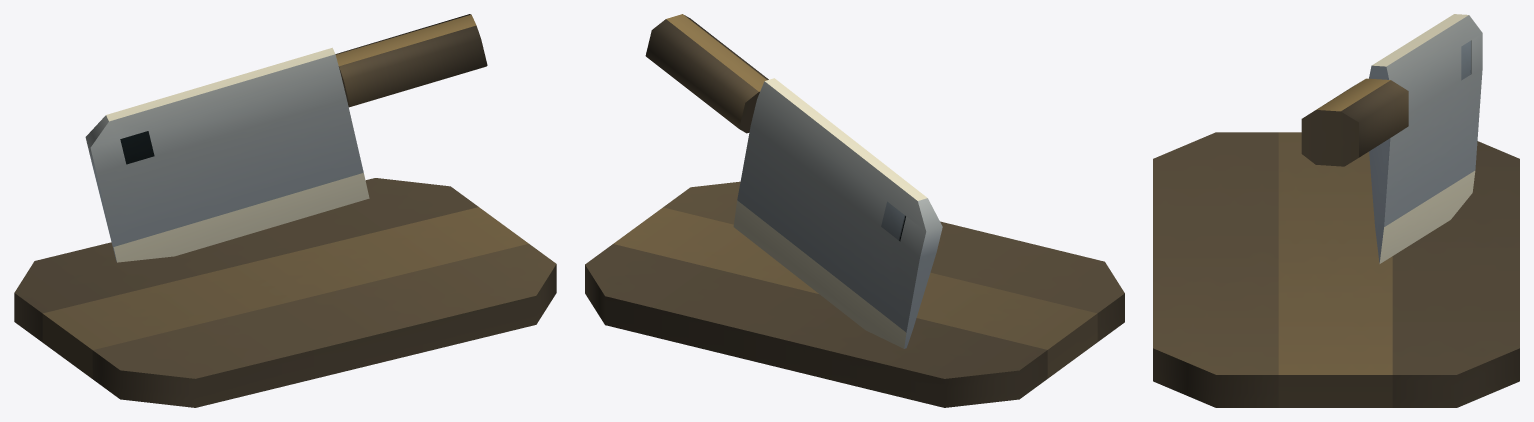
The model's file is cutting_board_wood_cleaver.fbx.
3 renders of one model, left to right at view 1: azimuth 30°, elevation 25°; view 2: azimuth 150°, elevation 25°; view 3: azimuth 270°, elevation 25°, orthographic. The views are drawn at different scales.
Visible parts, largest first — view 1: cutting_board_wood_cleaver; view 2: cutting_board_wood_cleaver; view 3: cutting_board_wood_cleaver.
Part boxes in pixels (bbox=[...]): cutting_board_wood_cleaver: bbox=[14, 14, 556, 407]; cutting_board_wood_cleaver: bbox=[585, 14, 1124, 407]; cutting_board_wood_cleaver: bbox=[1153, 14, 1519, 407].
Bounding box in the file's own units: 68.23 × 36.7 × 43.59.
